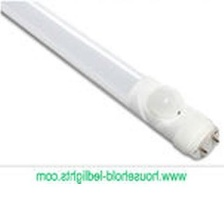light_bulb: (0, 0, 221, 162)
